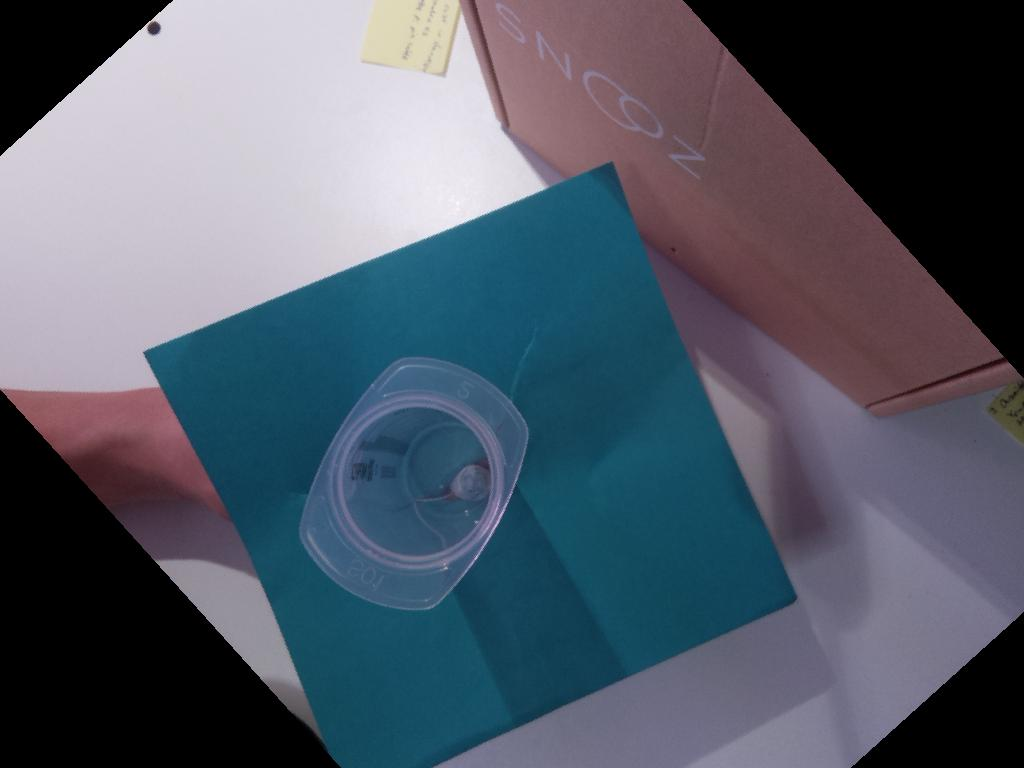clean: (300, 355, 529, 609)
